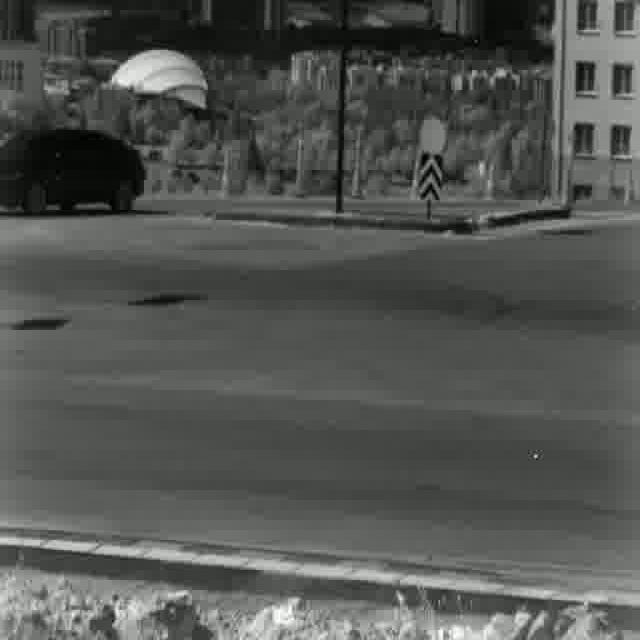Car: (0, 128, 145, 216)
